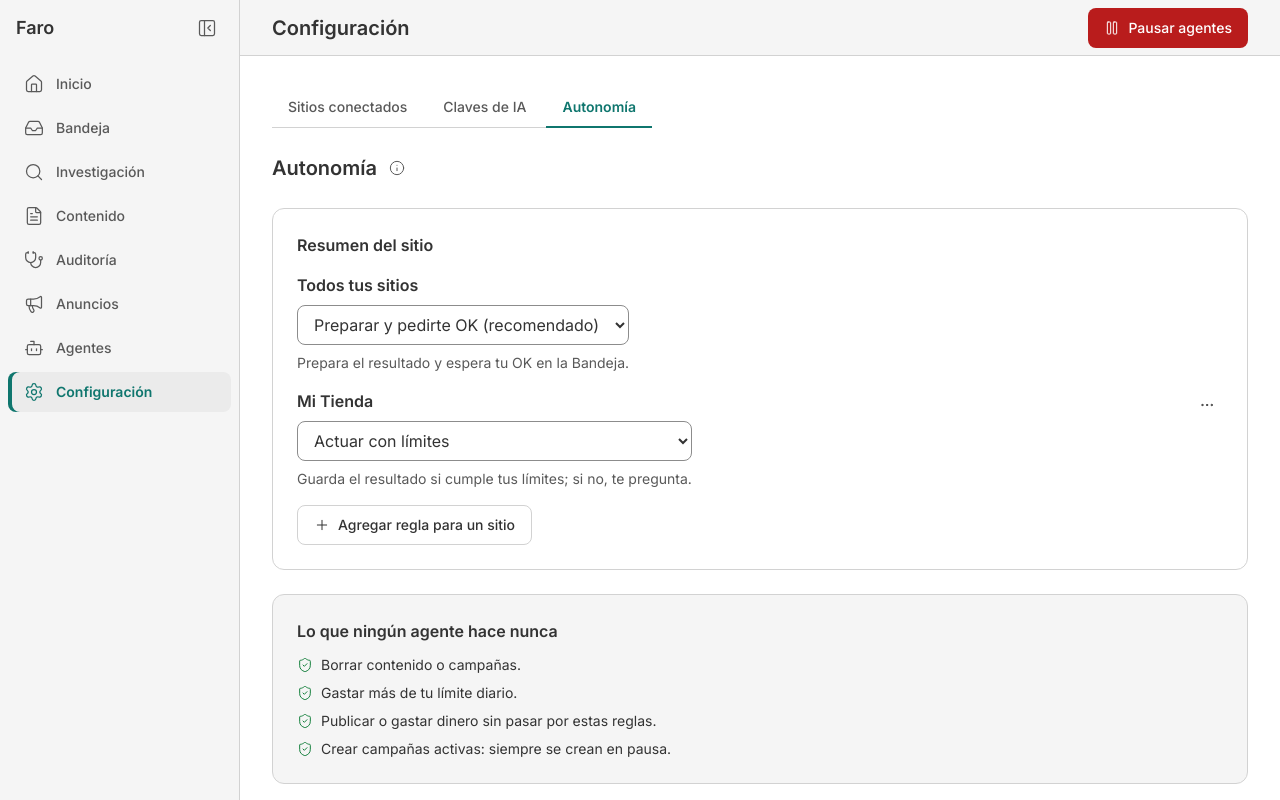
Test: Configuración → Autonomía (spec F1b §3.7) › regla por sitio: agregar, cambiar y Usar la regla general
Expected: the dropdown named "Nivel de Resumen del sitio en Mi Tienda" shows "Actuar con límites", 297,421 -> 692,461
Step 1. Click the button "Agregar regla para un sitio" → point(415, 525), box 297,505 -> 532,545
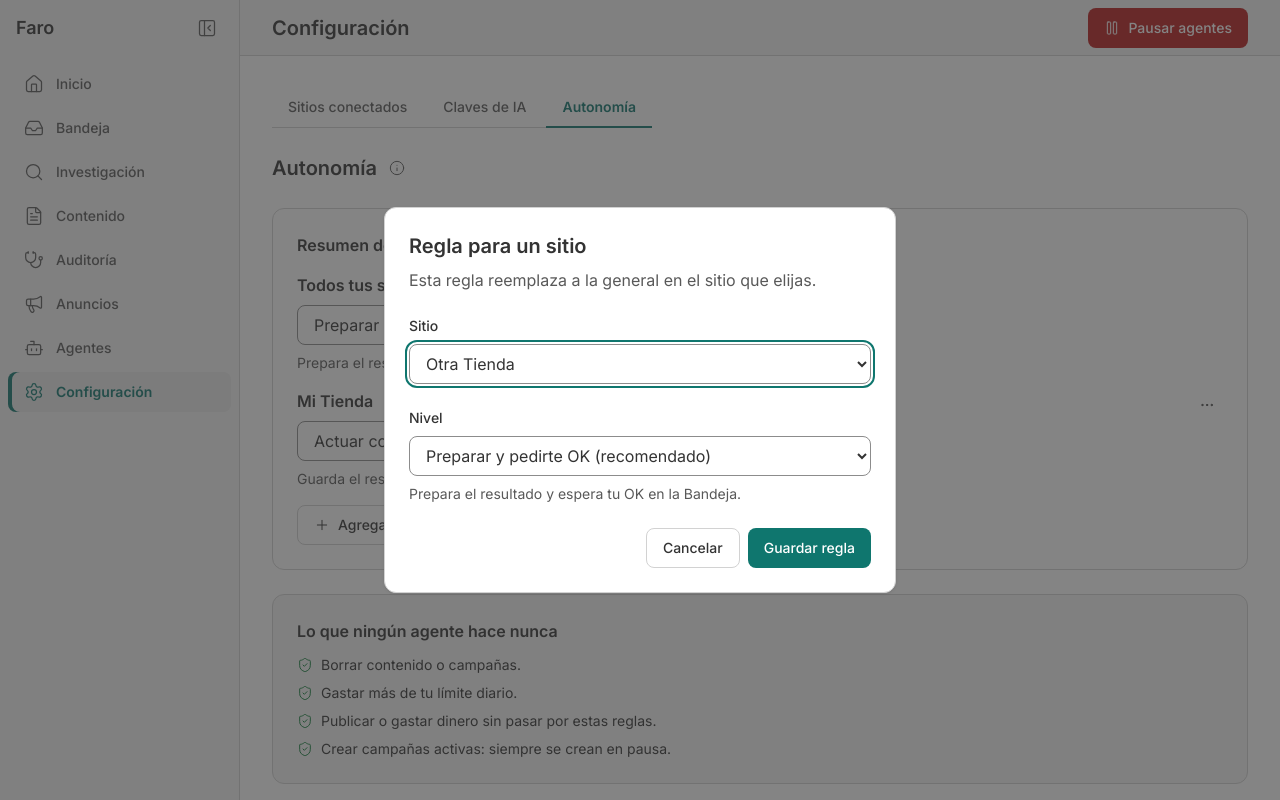
Step 2. Select "Solo sugerir" in the dropdown labelled "Nivel" → point(640, 456), box 409,436 -> 871,476
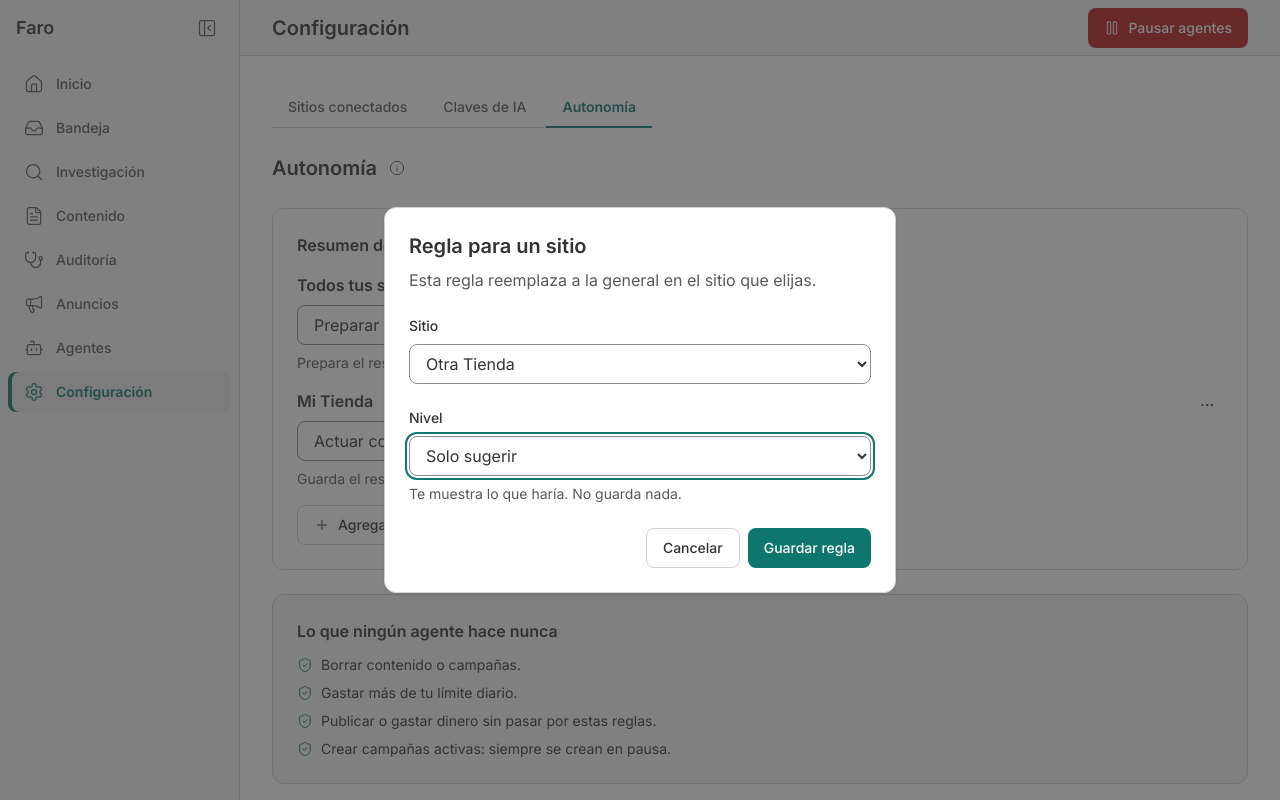
Step 3. Click the button "Guardar regla" → point(809, 548), box 748,528 -> 871,568
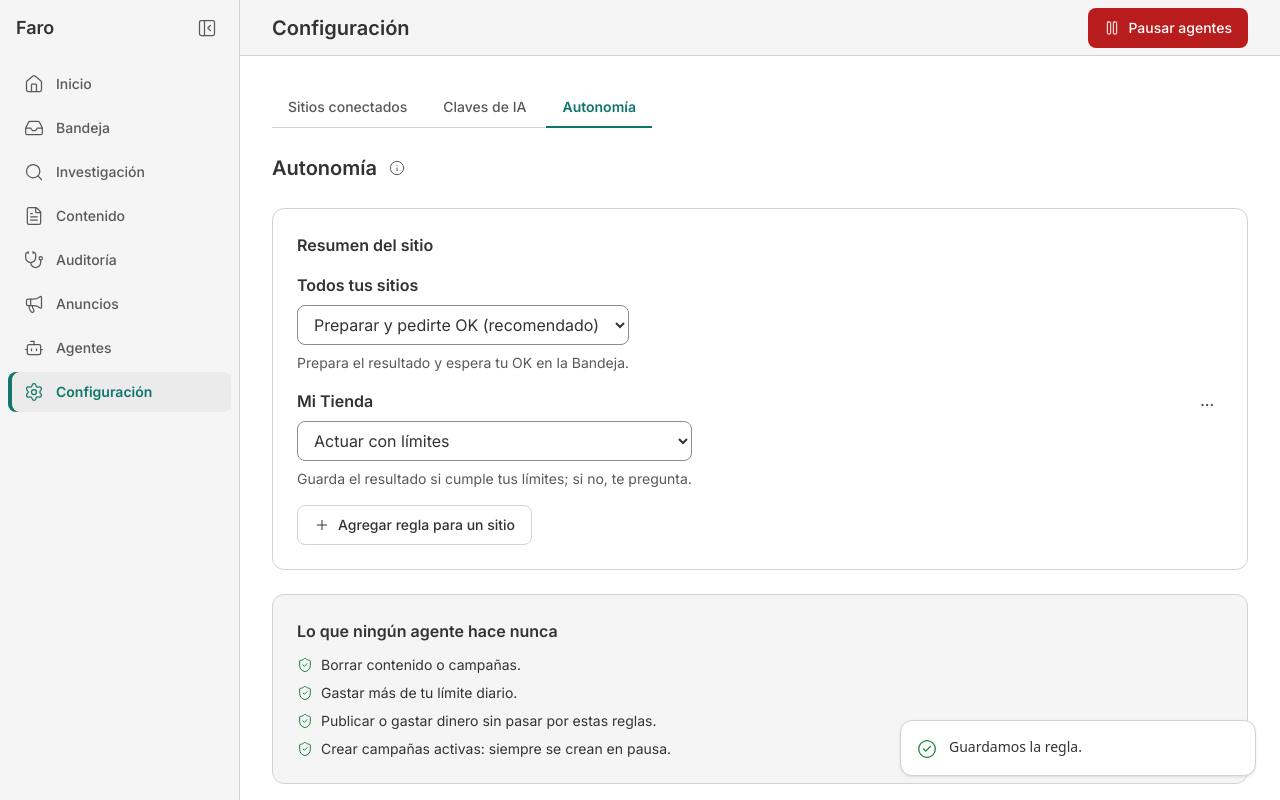
Now the text "Guardamos la regla." is shown, box 949,737 -> 1082,757
Step 4. Click the button named "Más acciones para Mi Tienda" → point(1207, 405), box 1191,389 -> 1223,421
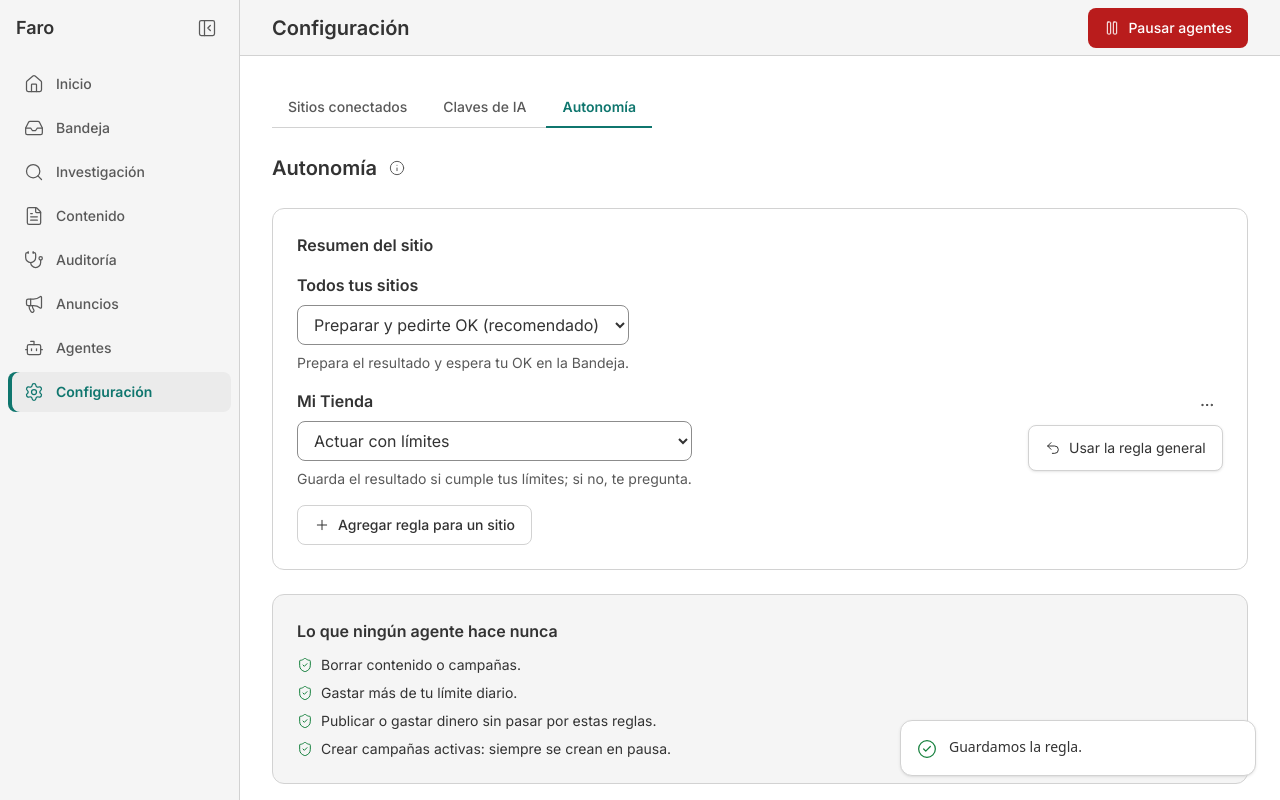
Step 5. Click the menu item "Usar la regla general" → point(1125, 448), box 1045,439 -> 1206,456
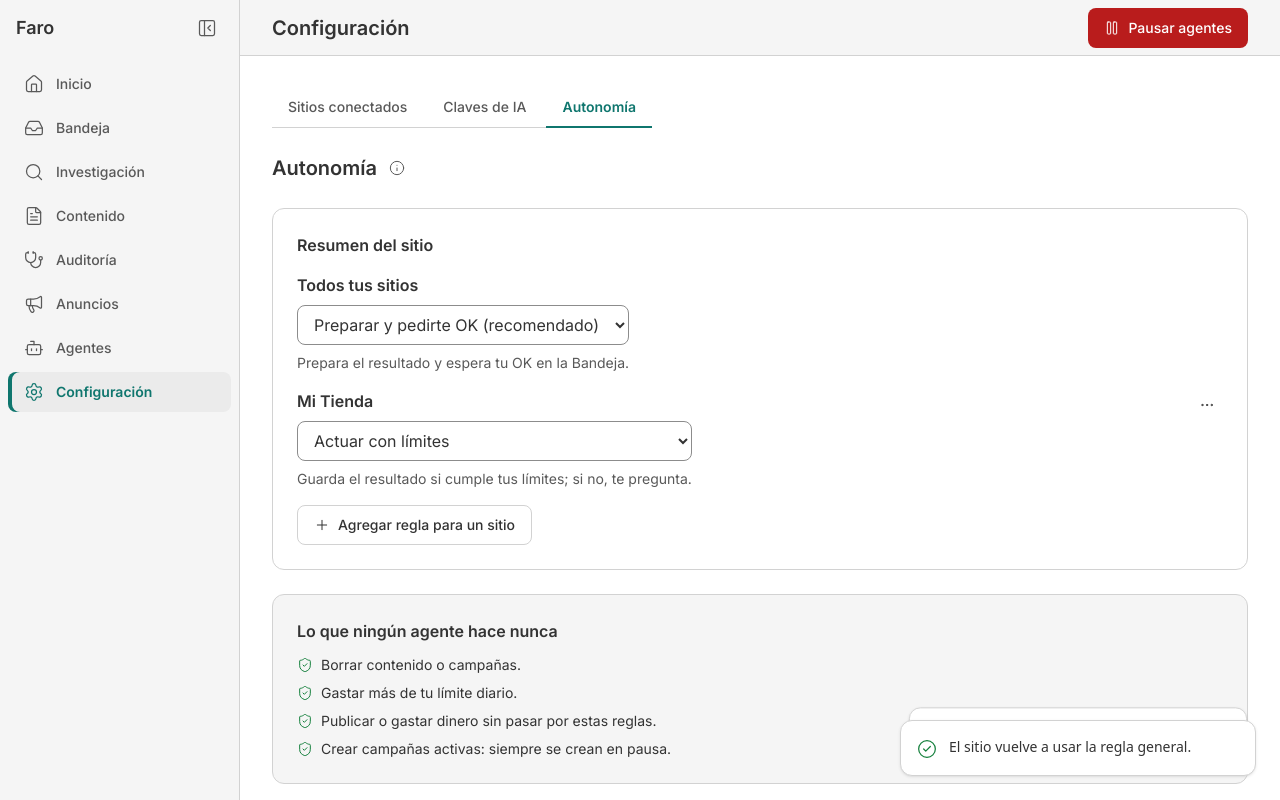
Now the text "El sitio vuelve a usar la regla general." is shown, box 949,737 -> 1191,757
